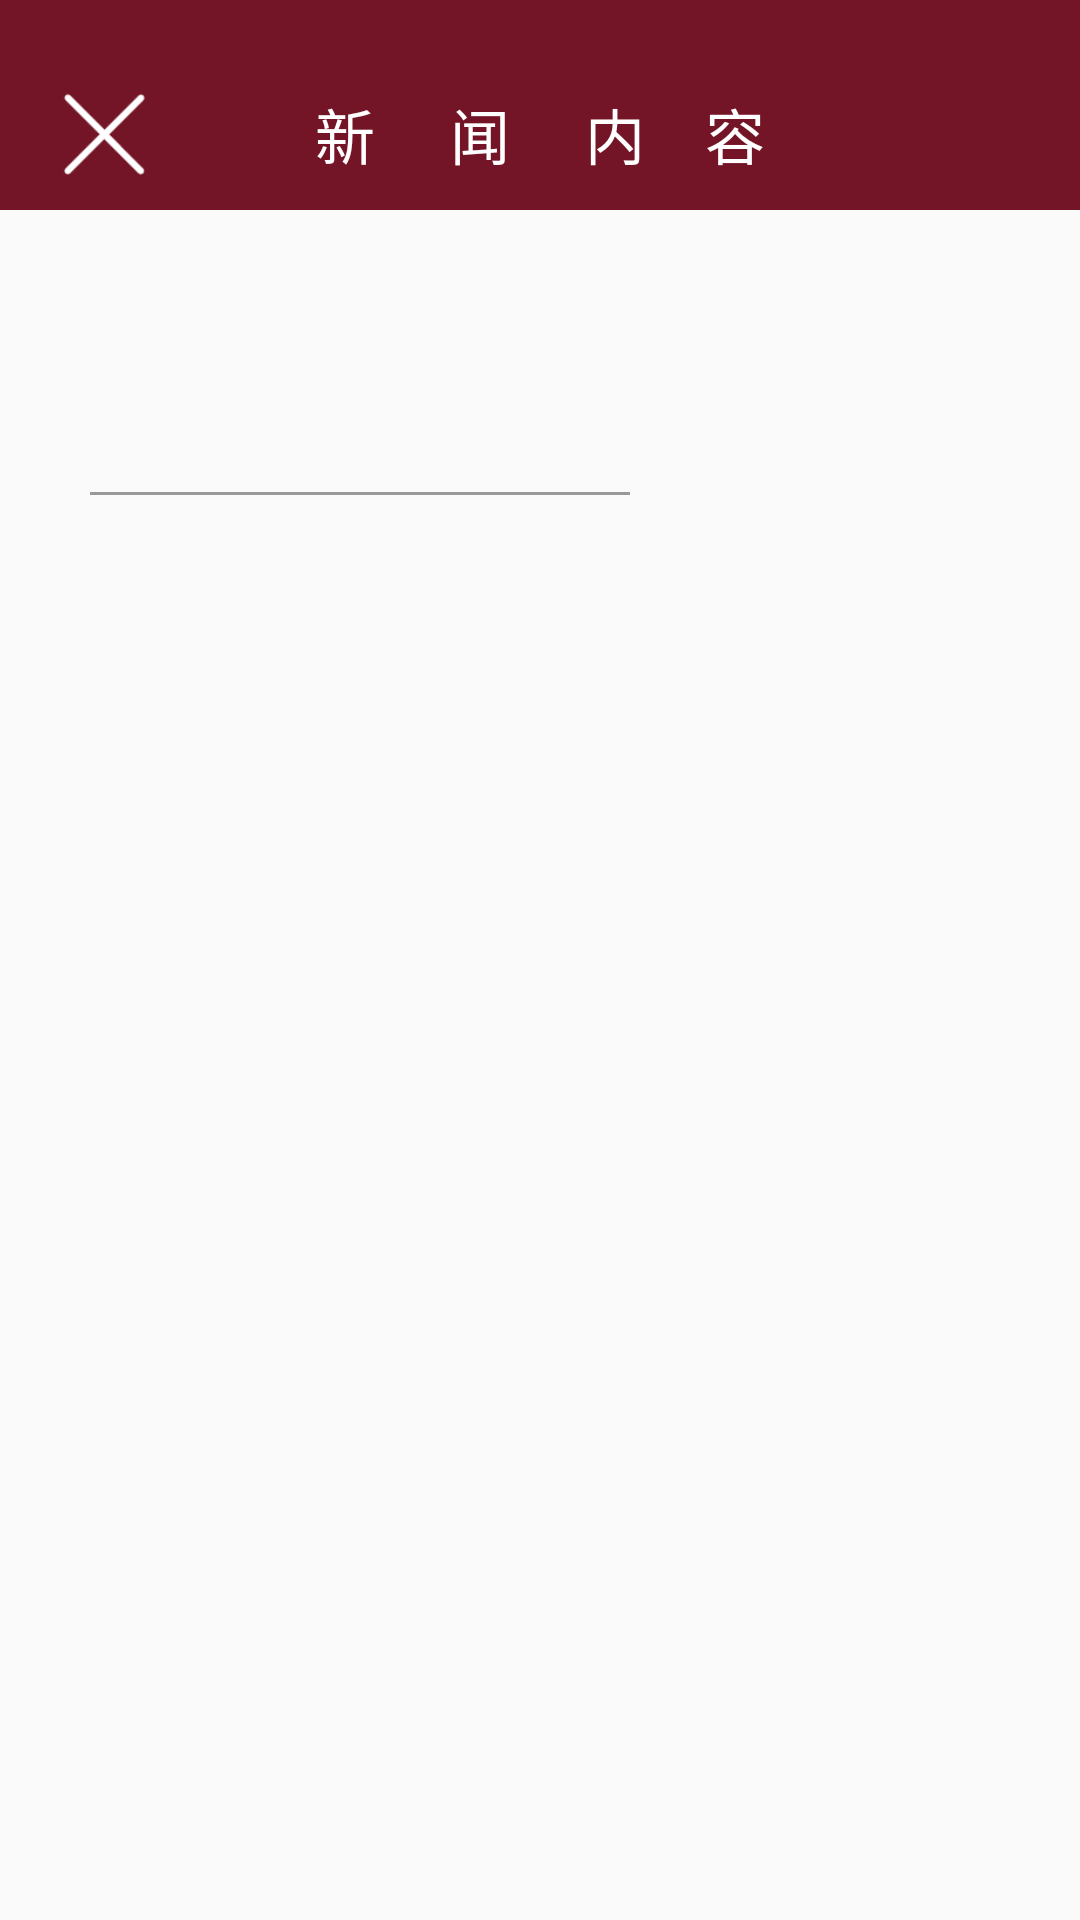

Icons on this 1080 × 1920 Android screen, each with its box as (x1,y1,x2,y2):
back: (64,94,145,175)
